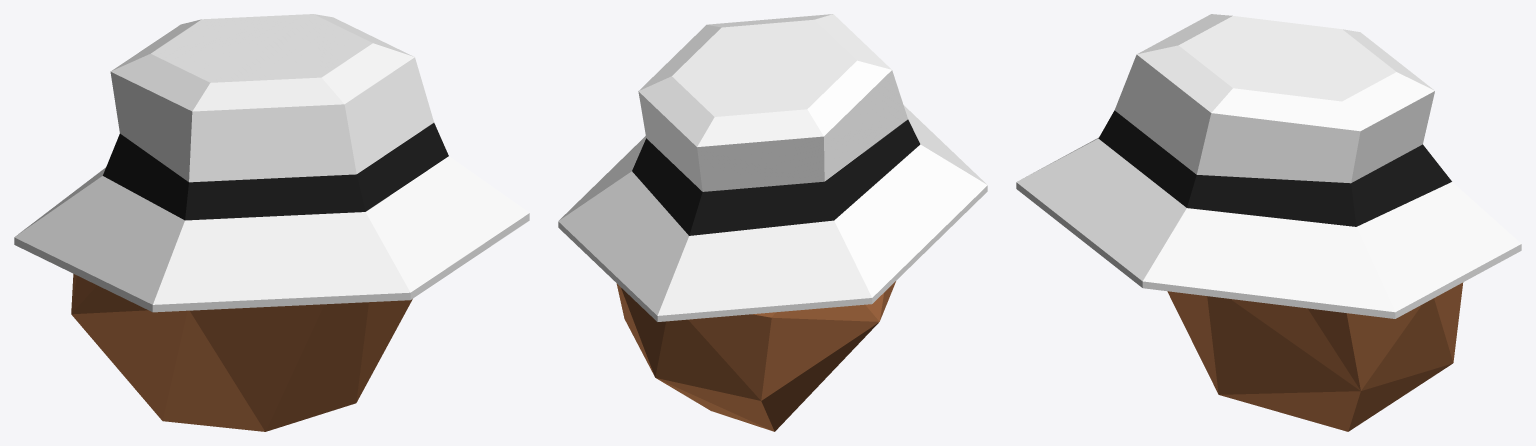
Rendered from TouristGirl_Hair_A.fbx.
3 views of the same model, side by side, from view 1: azimuth 30°, elevation 25°; view 2: azimuth 150°, elevation 25°; view 3: azimuth 270°, elevation 25° (orthographic). The views are drawn at different scales.
Visible parts, largest first — view 1: TouristGirl_Hair_A; view 2: TouristGirl_Hair_A; view 3: TouristGirl_Hair_A.
Part boxes in pixels (x1=…): TouristGirl_Hair_A: x1=14, y1=14, x2=529, y2=431; TouristGirl_Hair_A: x1=558, y1=14, x2=987, y2=431; TouristGirl_Hair_A: x1=1016, y1=14, x2=1521, y2=431.
Size of the model in its own units: 24.8 by 25.71 by 31.59.
